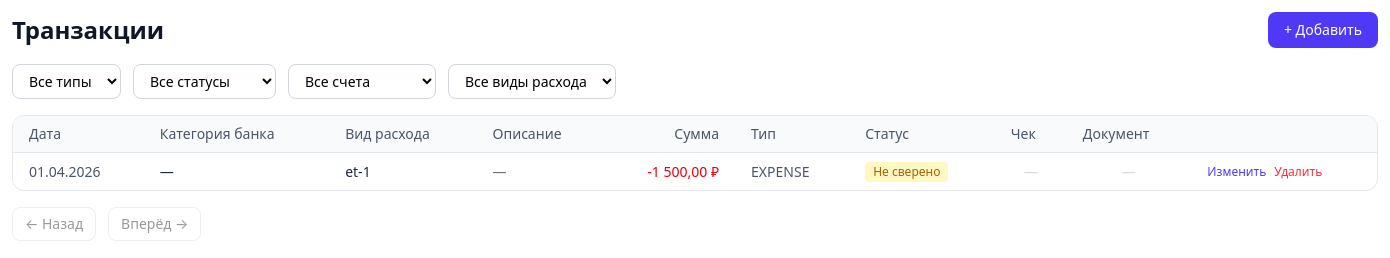
Transactions page › shows inline confirmation when Удалить is clicked
Click the button "Удалить". click: [1298, 172]
box: [1274,164,1322,180]
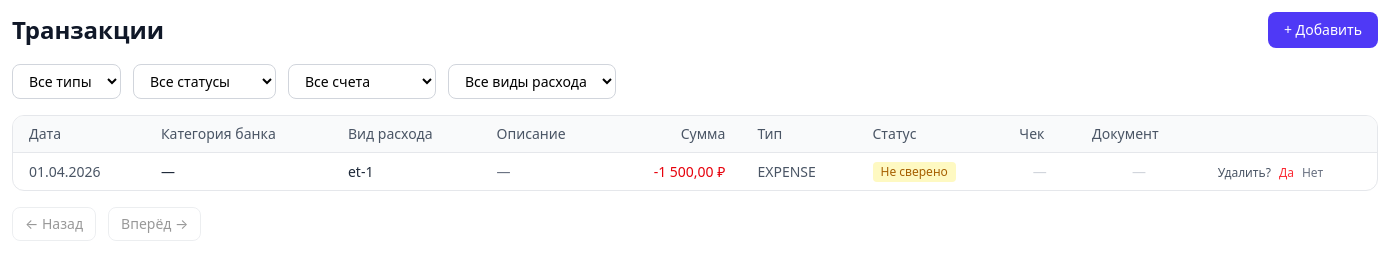
expect the text "Удалить?" is shown: met, box [1218,164,1271,180]
expect the button "Да" is shown: met, box [1279,164,1294,180]
expect the button "Нет" is shown: met, box [1302,164,1323,180]
